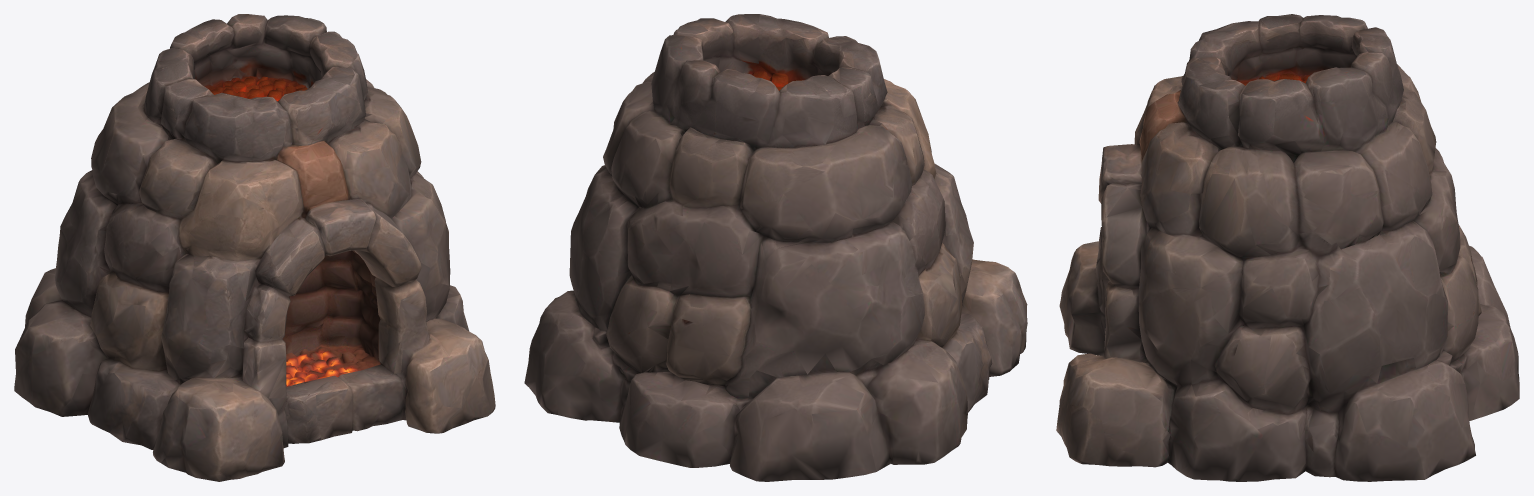
Rendered from furnace.glb.
The picture shows the model from 3 angles, left to right: view 1: azimuth 30°, elevation 25°; view 2: azimuth 150°, elevation 25°; view 3: azimuth 270°, elevation 25°; orthographic projection. The views are drawn at different scales.
Parts seen in each view (by area): view 1: Mesh_0; view 2: Mesh_0; view 3: Mesh_0.
Boxes of the visible parts, x1,y1,x2,y2 form: Mesh_0: (14,14,495,481); Mesh_0: (524,14,1027,481); Mesh_0: (1056,14,1519,481).
Bounding box in the file's own units: 1.9 × 1.53 × 1.85.
Materials: 1 (1 with a texture image).
